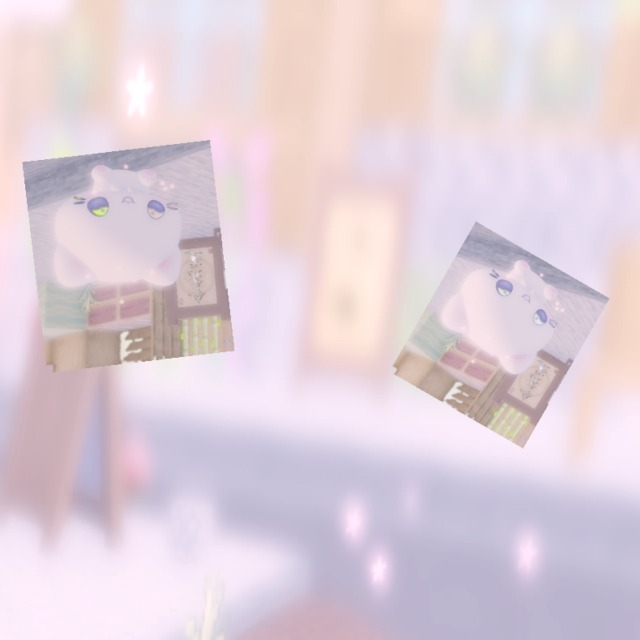urso_branco: (389, 221, 610, 449), (22, 140, 235, 373)
